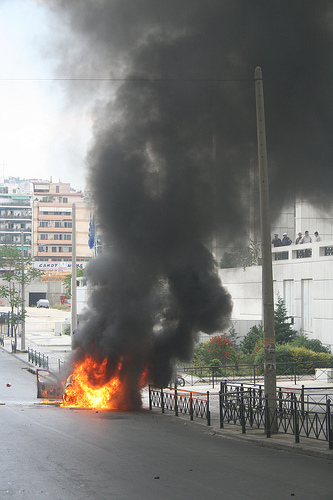fire: (49, 353, 132, 415)
